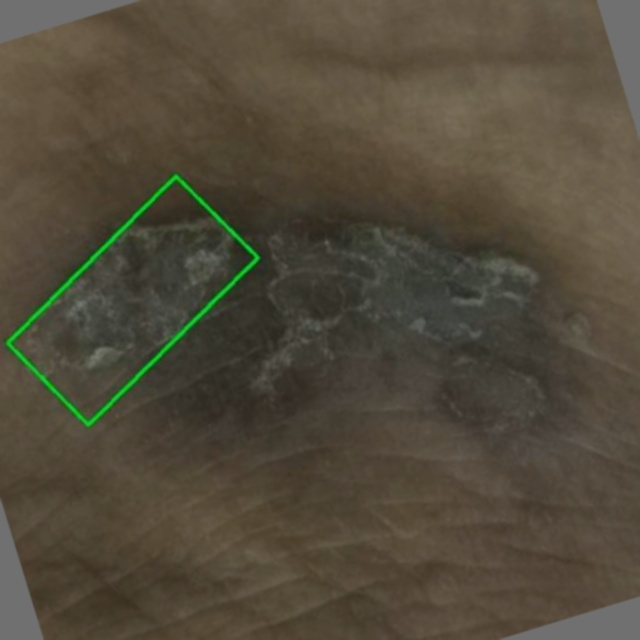Eczema: (6, 175, 257, 424)
